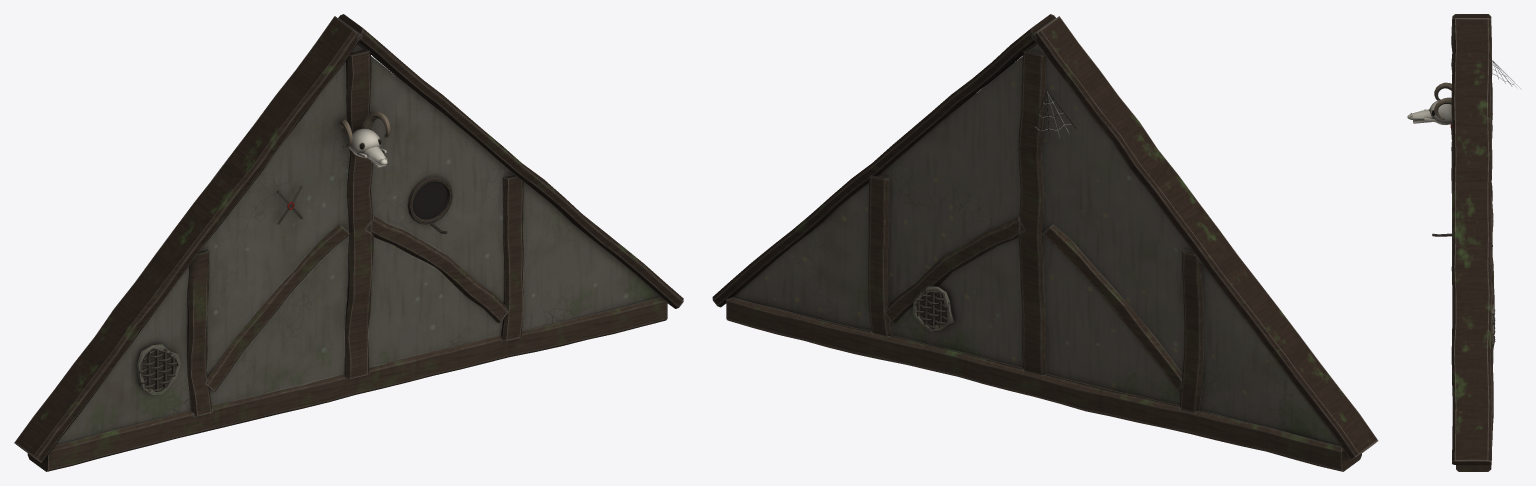
Rendered from HutGable.fbx.
The picture shows the model from 3 angles, left to right: view 1: azimuth 30°, elevation 25°; view 2: azimuth 150°, elevation 25°; view 3: azimuth 270°, elevation 25°; orthographic projection. The views are drawn at different scales.
Visible parts, largest first — view 1: HutGable; view 2: HutGable; view 3: HutGable.
Boxes of the visible parts, <box> form: HutGable: <box>14,14,683,471</box>; HutGable: <box>712,14,1378,471</box>; HutGable: <box>1407,14,1521,471</box>.
Size of the model in its own units: 1680 by 915 by 292.
